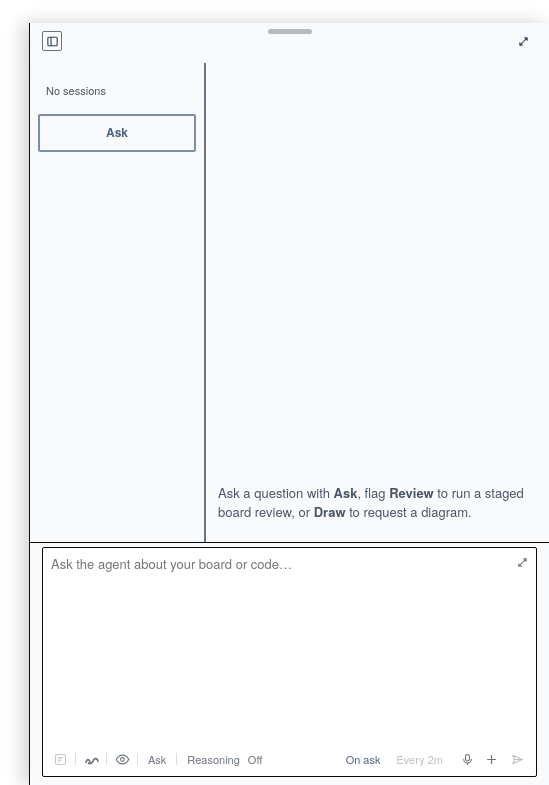
Scenario: shows the message when starting dictation is rejected
What coordinates should you click on to do the following:
click the button named "Voice"
I would click on:
 (467, 759)
Its box is [457,749,477,769].
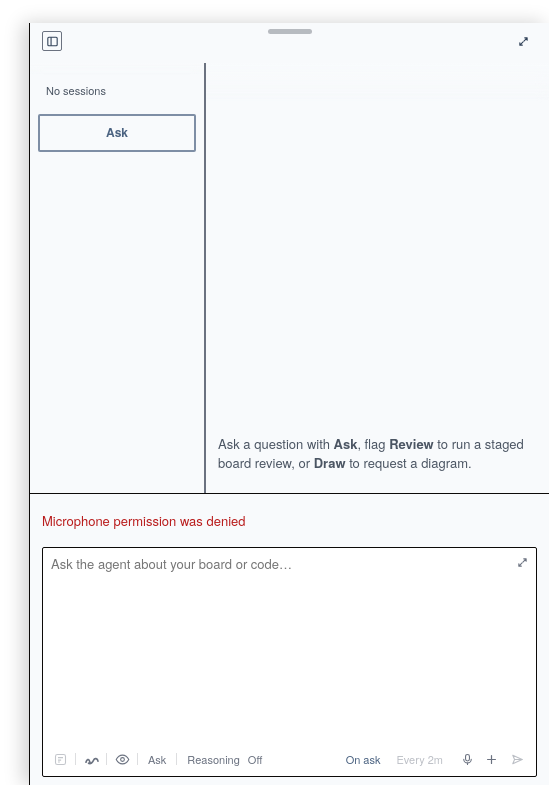
Check: the text with class "lc-warning" reads "Microphone permission was denied", box [42,511,246,530]
